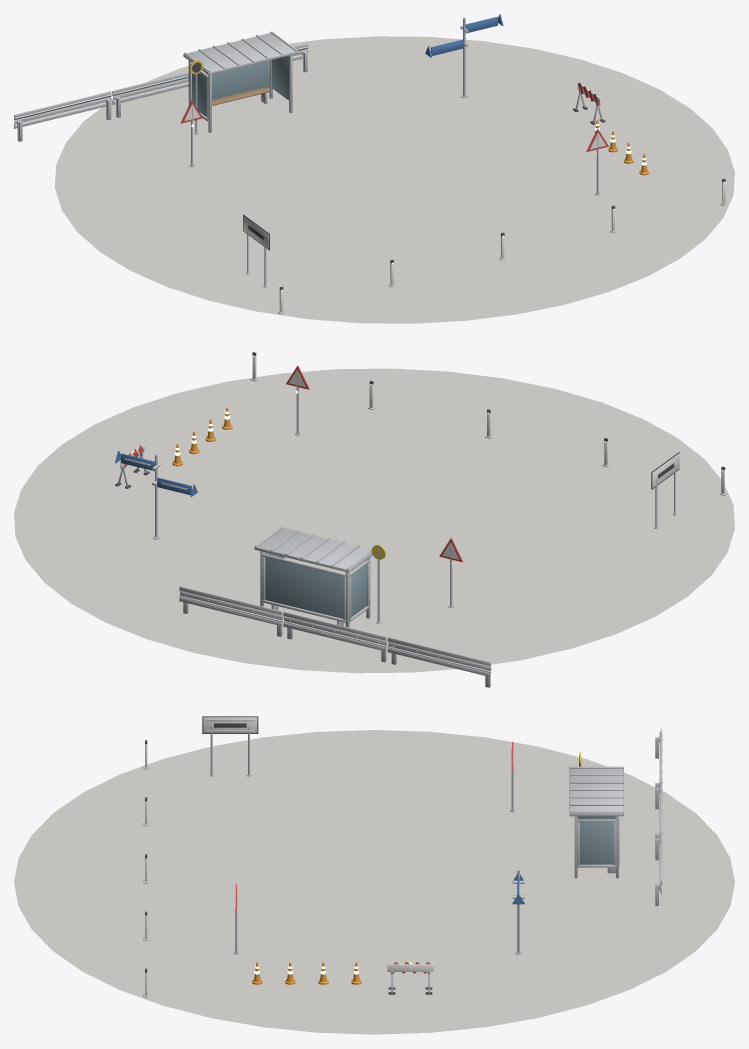
Rendered from th39_kreuzung.glb.
3 renders of one model, top to bottom at view 1: azimuth 30°, elevation 25°; view 2: azimuth 150°, elevation 25°; view 3: azimuth 270°, elevation 25°, orthographic. The views are drawn at different scales.
Visible parts, largest first — view 1: Circle, Cube.030, Cube.015, Cube.020, Cube.025; view 2: Circle, Cube.015, Cube.030, Cube.025; view 3: Circle, Cube.030, Cube.020, Cube.
Boxes of the visible parts, left/top/right/bottom form: Circle: left=54, top=36, right=734, bottom=323; Cube.030: left=183, top=33, right=297, bottom=74; Cube.015: left=208, top=60, right=269, bottom=99; Cube.020: left=271, top=56, right=288, bottom=100; Cube.025: left=192, top=73, right=206, bottom=116; Circle: left=14, top=368, right=734, bottom=673; Cube.015: left=265, top=557, right=343, bottom=618; Cube.030: left=254, top=528, right=372, bottom=572; Cube.025: left=351, top=564, right=366, bottom=616; Circle: left=14, top=730, right=734, bottom=1034; Cube.030: left=569, top=768, right=623, bottom=816; Cube.020: left=580, top=822, right=613, bottom=864; Cube: left=203, top=717, right=257, bottom=733.
Bounding box in the file's own units: 24 × 3.05 × 24.
